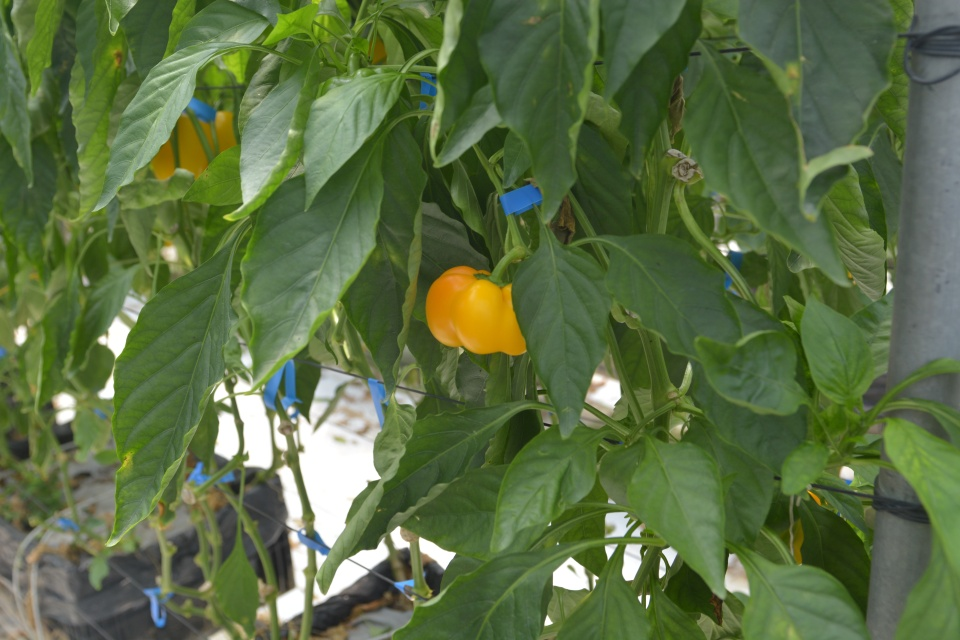fruit: (424, 263, 527, 356), (145, 105, 239, 182)
pedicle: (474, 272, 508, 287)
